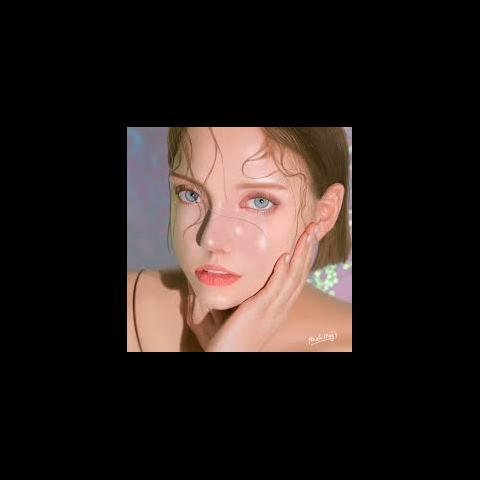opened: (166, 168, 284, 221)
